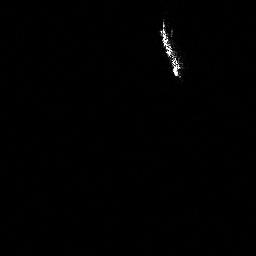ship: (156, 18, 187, 81)
